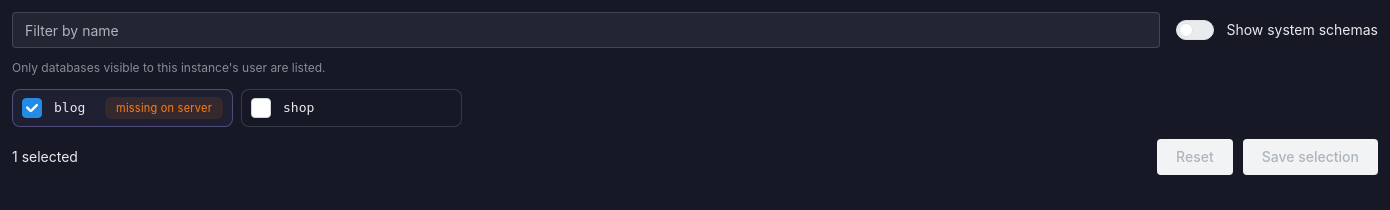
Scenario: DatabaseSelectorView › hides system schemas until the toggle is switched on
Expected: the text "shop" is shown, left=283, top=98, right=314, bottom=118
Expected: the text "information_schema" is not shown
Click the switch labelled "Show system schemas": (1277, 30) left=1176, top=20, right=1378, bottom=40
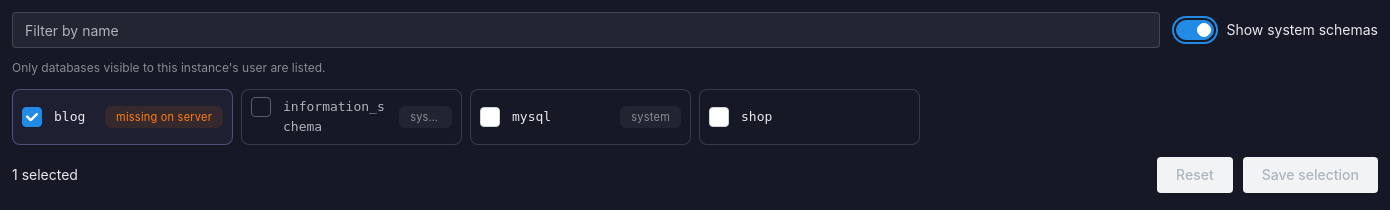
Expected: the text "information_schema" is shown, left=283, top=97, right=389, bottom=137
Expected: the text "system" is shown 2 times, left=410, top=110, right=441, bottom=124; left=631, top=110, right=670, bottom=124
